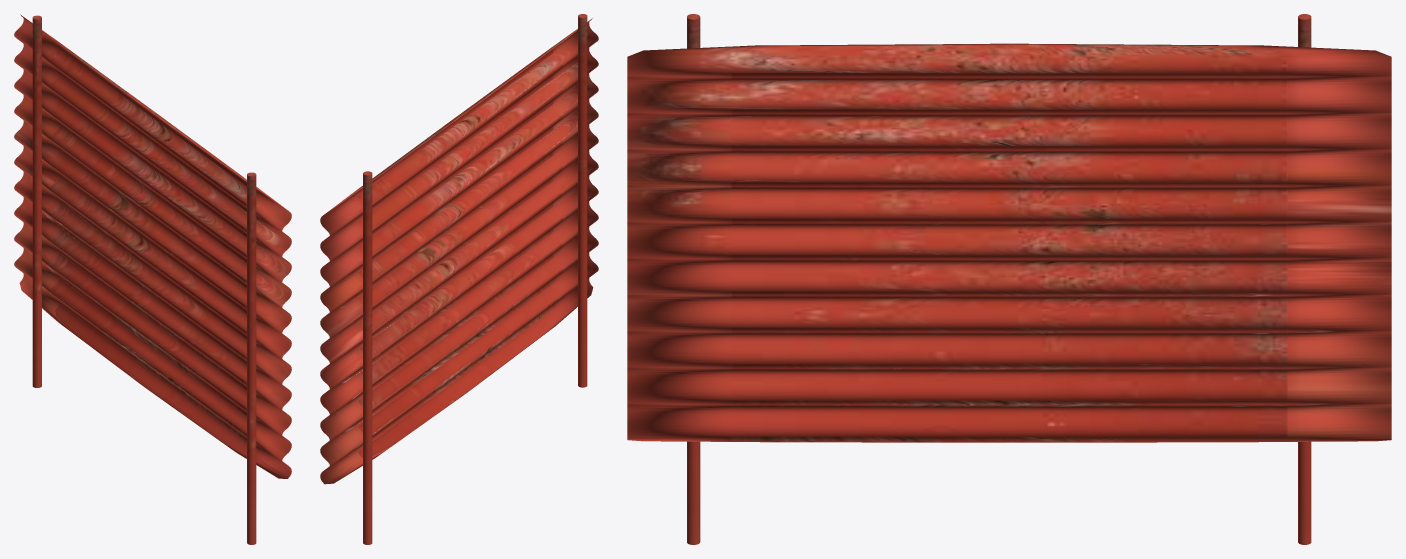
Rendered from iron fencesfbx.fbx.
3 renders of one model, left to right at view 1: azimuth 30°, elevation 25°; view 2: azimuth 150°, elevation 25°; view 3: azimuth 270°, elevation 25°, orthographic. The views are drawn at different scales.
Parts seen in each view (by area): view 1: Plane, Cylinder, Cylinder.001; view 2: Plane, Cylinder, Cylinder.001; view 3: Plane, Cylinder.001, Cylinder.
Part boxes in pixels (x1,y1,x2,y2): Plane: [14, 14, 291, 478]; Cylinder: [32, 15, 41, 387]; Cylinder.001: [247, 172, 256, 544]; Plane: [320, 18, 598, 484]; Cylinder: [363, 171, 372, 544]; Cylinder.001: [578, 14, 587, 387]; Plane: [627, 43, 1391, 442]; Cylinder.001: [687, 14, 700, 544]; Cylinder: [1298, 14, 1311, 544].
Bounding box in the file's own units: 10.89 × 174 × 229.
